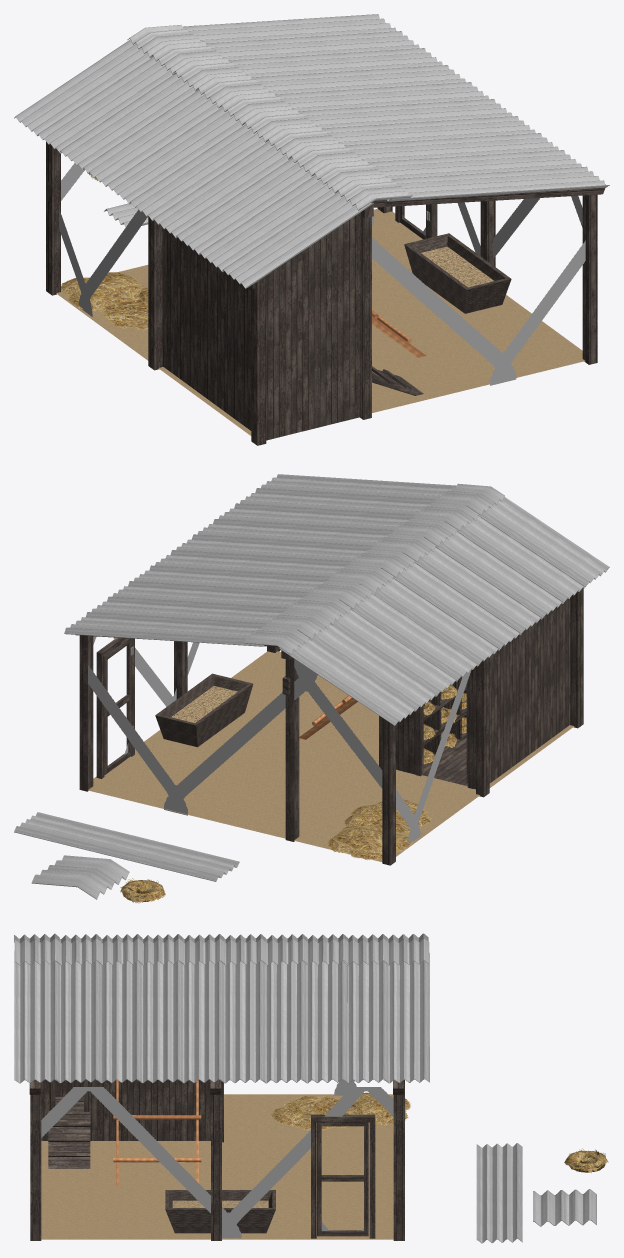
File: galinheiro.fbx
3 views of the same model, one above another, from view 1: azimuth 30°, elevation 25°; view 2: azimuth 150°, elevation 25°; view 3: azimuth 270°, elevation 25° (orthographic). The views are drawn at different scales.
Visible parts, largest first — view 1: TelhadoComp, Galinheiro_Estrutura, Solo, Galinheiro_Grade, Galinheiro_Coxo, Galinheiro_Coxo1, pPlane68, pPlane67, Poleiro; view 2: TelhadoComp, Galinheiro_Estrutura, Solo, Galinheiro_Grade, Telha, Galinheiro_Coxo, TelhaTopo, Galinheiro_PortaGrade1, Galinheiro_Coxo1, pPlane67, Ninho1; view 3: TelhadoComp, Solo, Galinheiro_Estrutura, Galinheiro_Grade, Telha, Galinheiro_Coxo, TelhaTopo, Galinheiro_PortaGrade1, Poleiro, Ninho1, pPlane68, pPlane67 (+2 smaller).
Boxes of the visible parts, x1,y1,x2,y2 form: TelhadoComp: (14, 14, 609, 288); Galinheiro_Estrutura: (46, 141, 605, 445); Solo: (56, 209, 584, 435); Galinheiro_Grade: (59, 163, 585, 385); Galinheiro_Coxo: (404, 233, 511, 313); Galinheiro_Coxo1: (421, 246, 493, 287); pPlane68: (99, 299, 148, 330); pPlane67: (76, 274, 141, 301); Poleiro: (372, 309, 426, 357); TelhadoComp: (64, 474, 609, 725); Galinheiro_Estrutura: (75, 588, 583, 865); Solo: (88, 651, 574, 861); Galinheiro_Grade: (88, 636, 471, 843); Telha: (14, 812, 239, 881); Galinheiro_Coxo: (155, 673, 253, 747); TelhaTopo: (31, 855, 129, 899); Galinheiro_PortaGrade1: (104, 638, 133, 774); Galinheiro_Coxo1: (171, 686, 237, 722); pPlane67: (332, 828, 382, 850); Ninho1: (120, 878, 165, 903); TelhadoComp: (14, 933, 429, 1083); Solo: (41, 1094, 393, 1239); Galinheiro_Estrutura: (29, 1079, 404, 1240); Galinheiro_Grade: (41, 1079, 393, 1238); Telha: (476, 1143, 522, 1243); Galinheiro_Coxo: (165, 1190, 275, 1233); TelhaTopo: (533, 1189, 596, 1226); Galinheiro_PortaGrade1: (316, 1122, 368, 1236); Poleiro: (113, 1080, 201, 1186); Ninho1: (564, 1148, 608, 1173); pPlane68: (283, 1095, 339, 1123); pPlane67: (350, 1097, 392, 1123).
Size of the model in its own units: 628 by 390 by 992.
8 materials, 6 textured.
